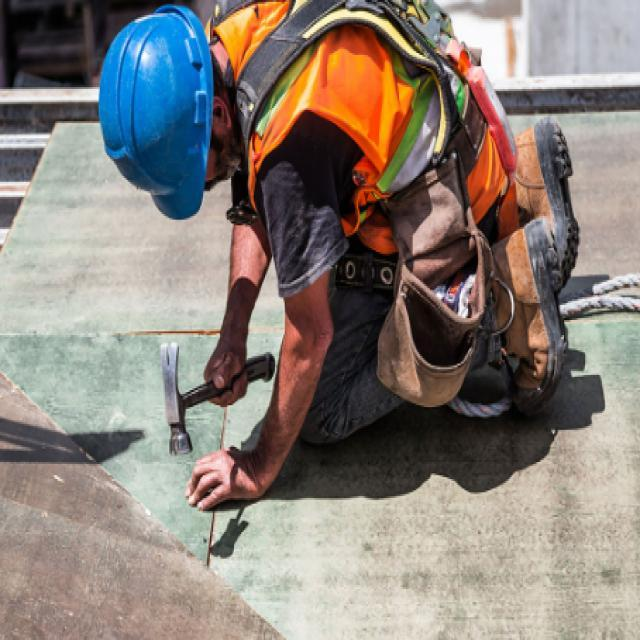hard_hat: (93, 0, 229, 229)
shoes: (496, 89, 582, 421)
vest: (203, 0, 514, 276)
